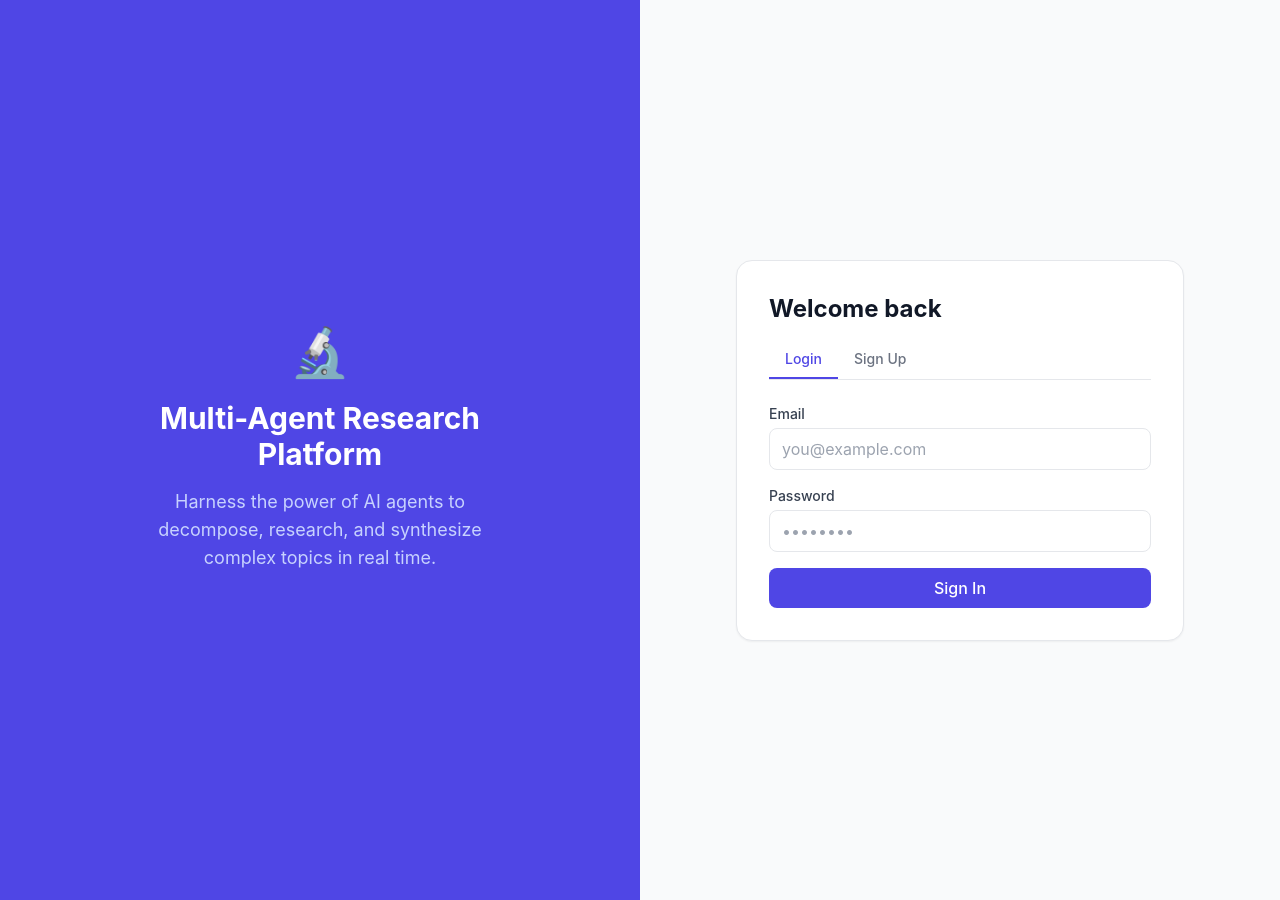
AuthPage › shows password validation error when Login submitted with email but no password
The width and height of the screenshot is (1280, 900).
In the field labelled "Email": {"x": 960, "y": 448} [769,428,1151,470], type "test@example.com"
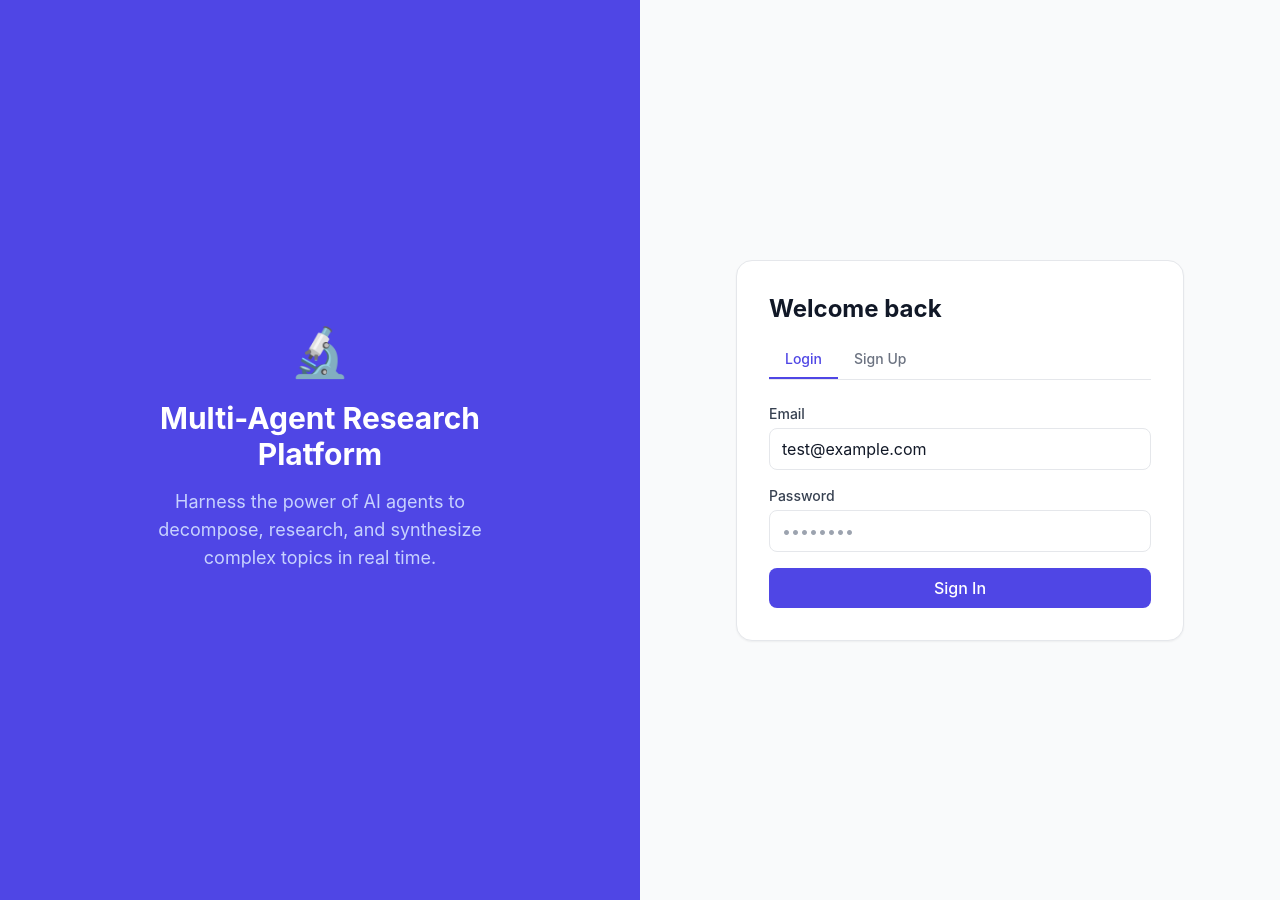
Click the button "Sign In": {"x": 960, "y": 588} [769,568,1151,608]
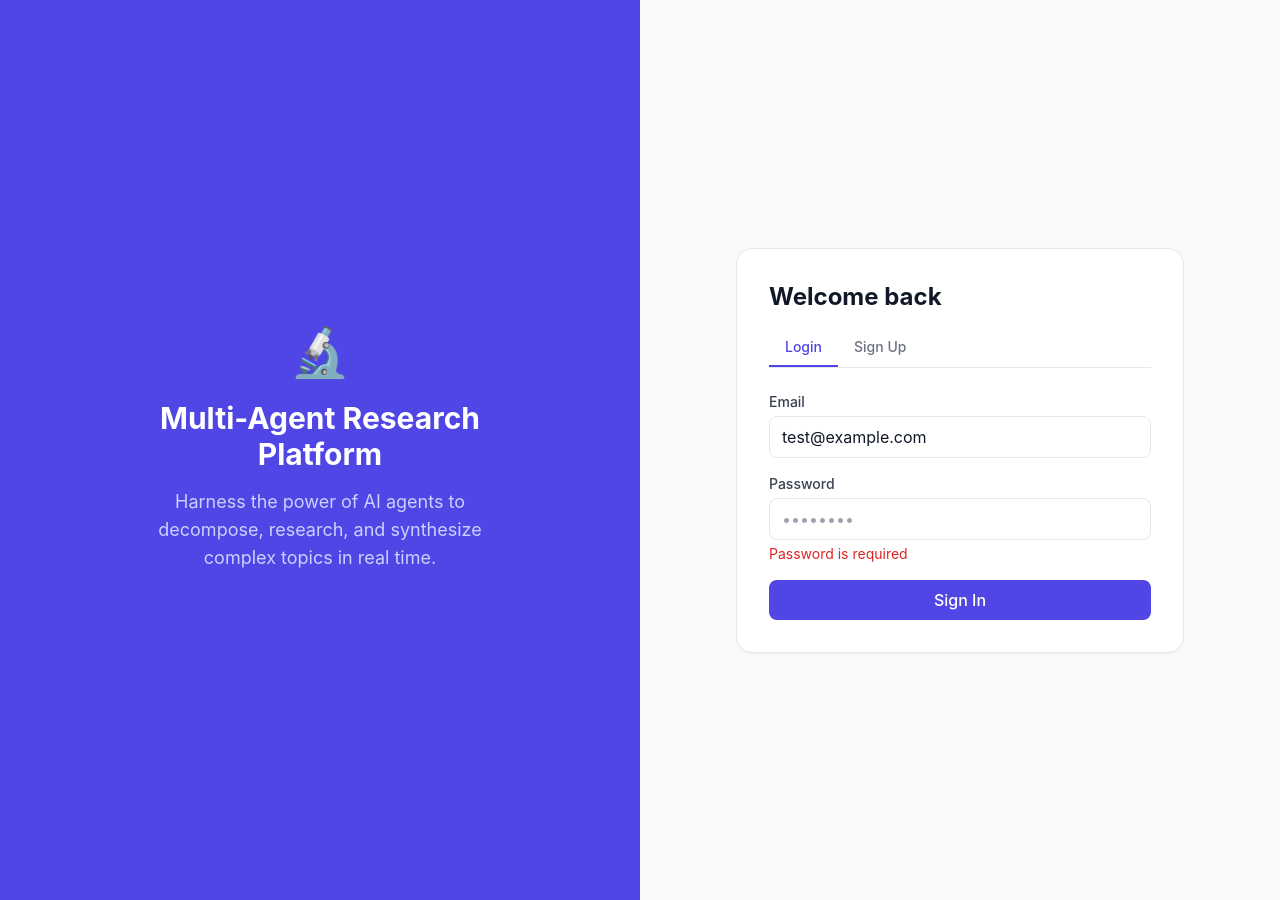
Expected: the text "Password is required" is shown, [769,544,908,562]
